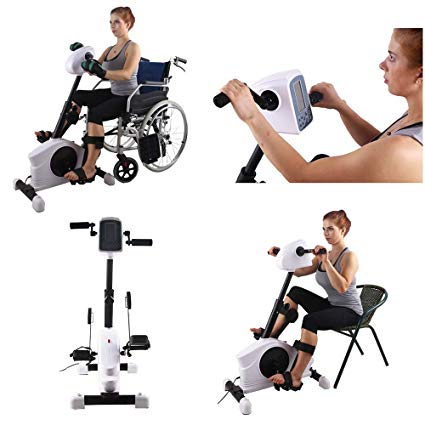gym_bike: (228, 327, 320, 410)
